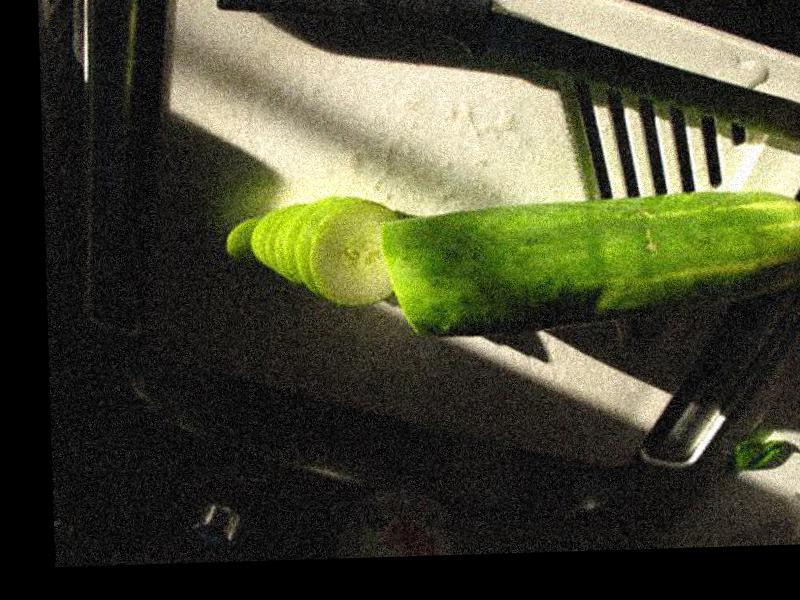Cucumber: (377, 187, 800, 338)
